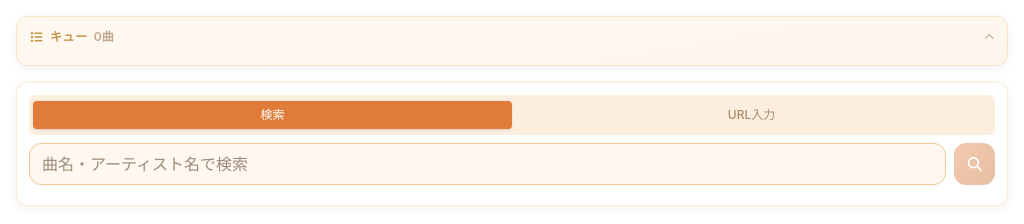
Test: MusicPanel › 検索タブ（デフォルト） › 検索欄の全削除ボタンで入力をクリアする
Step 1. Type "テスト" into the field with placeholder "曲名・アーティスト名で検索" → {"x": 487, "y": 164}, box [29,143,946,185]
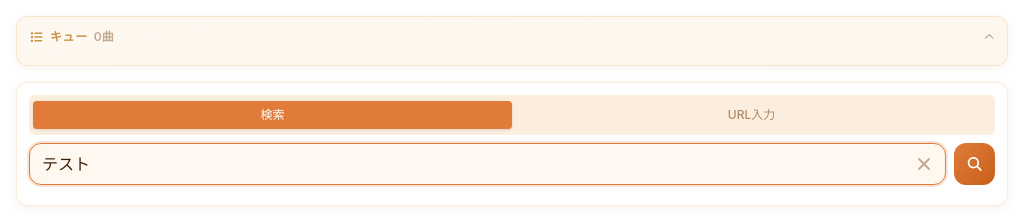
Step 2. Click the button named "検索欄をクリア" → {"x": 924, "y": 164}, box [910,150,938,178]
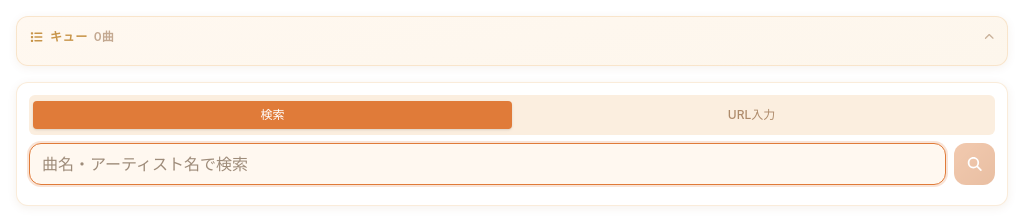
Expected: the field with placeholder "曲名・アーティスト名で検索" is empty, [29,143,946,185]
